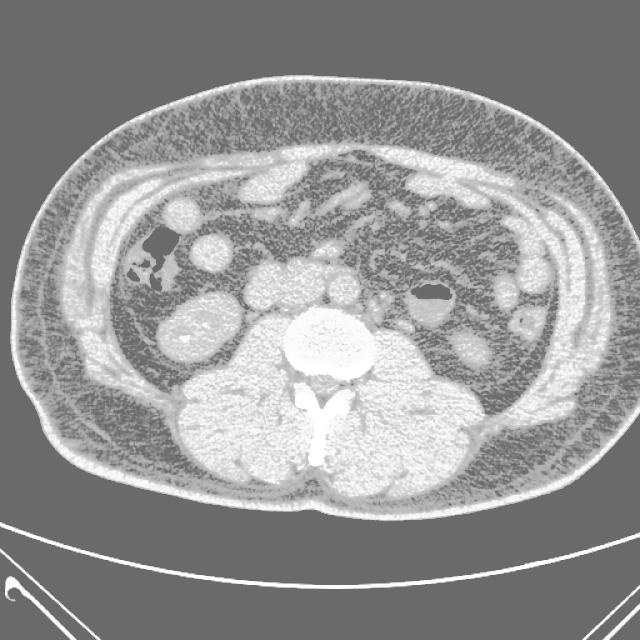STONE: (75, 171, 587, 375)
